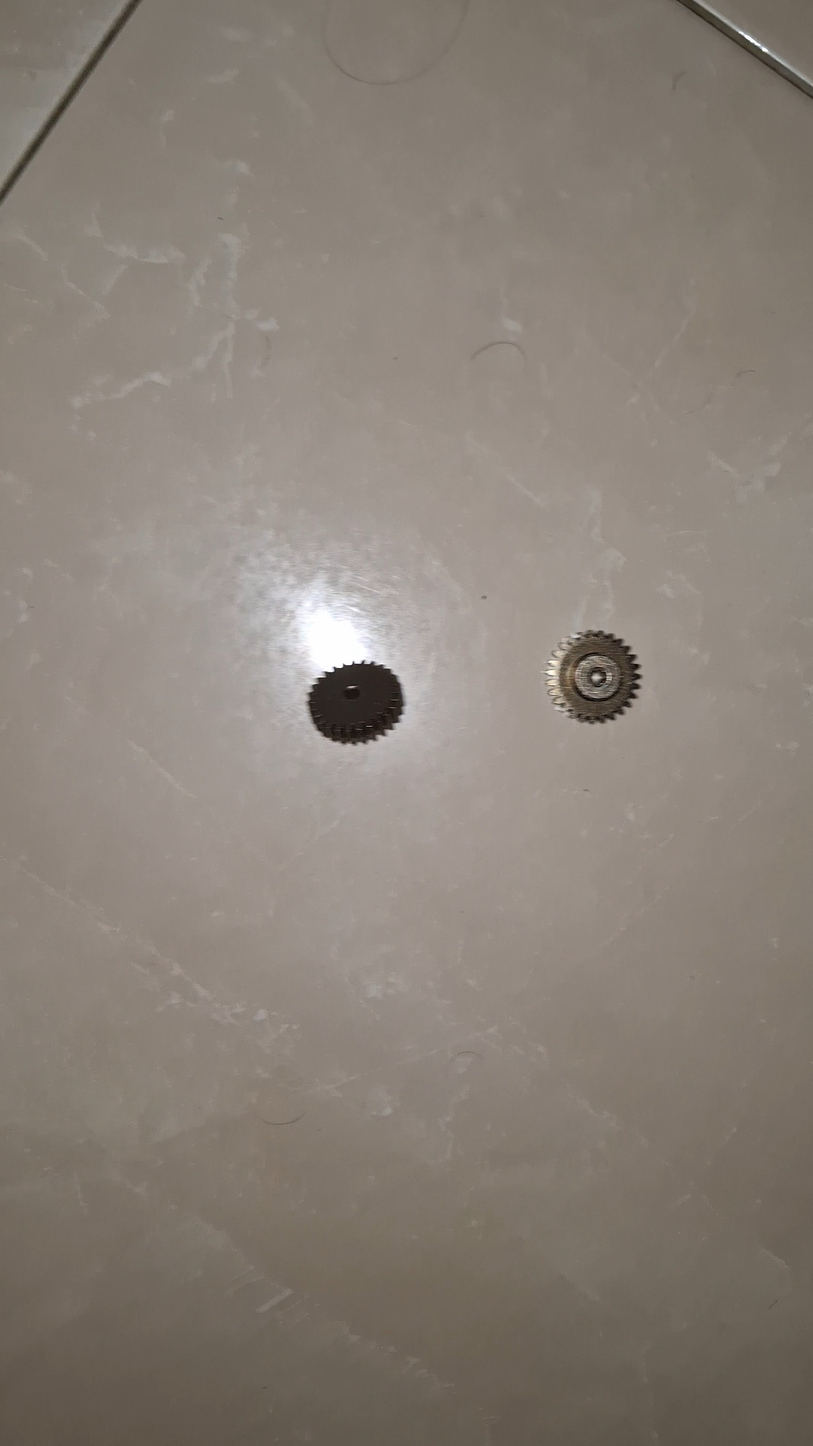spur gear: (547, 630, 640, 722), (309, 662, 403, 743)
